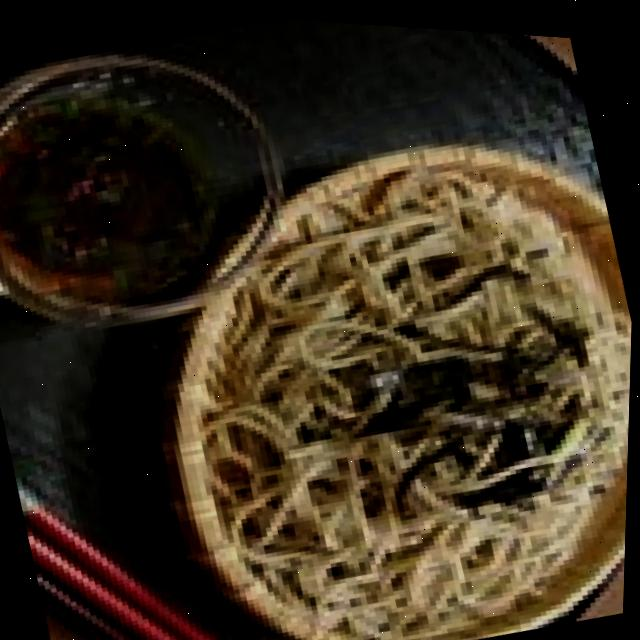面条主食: (98, 73, 638, 640)
